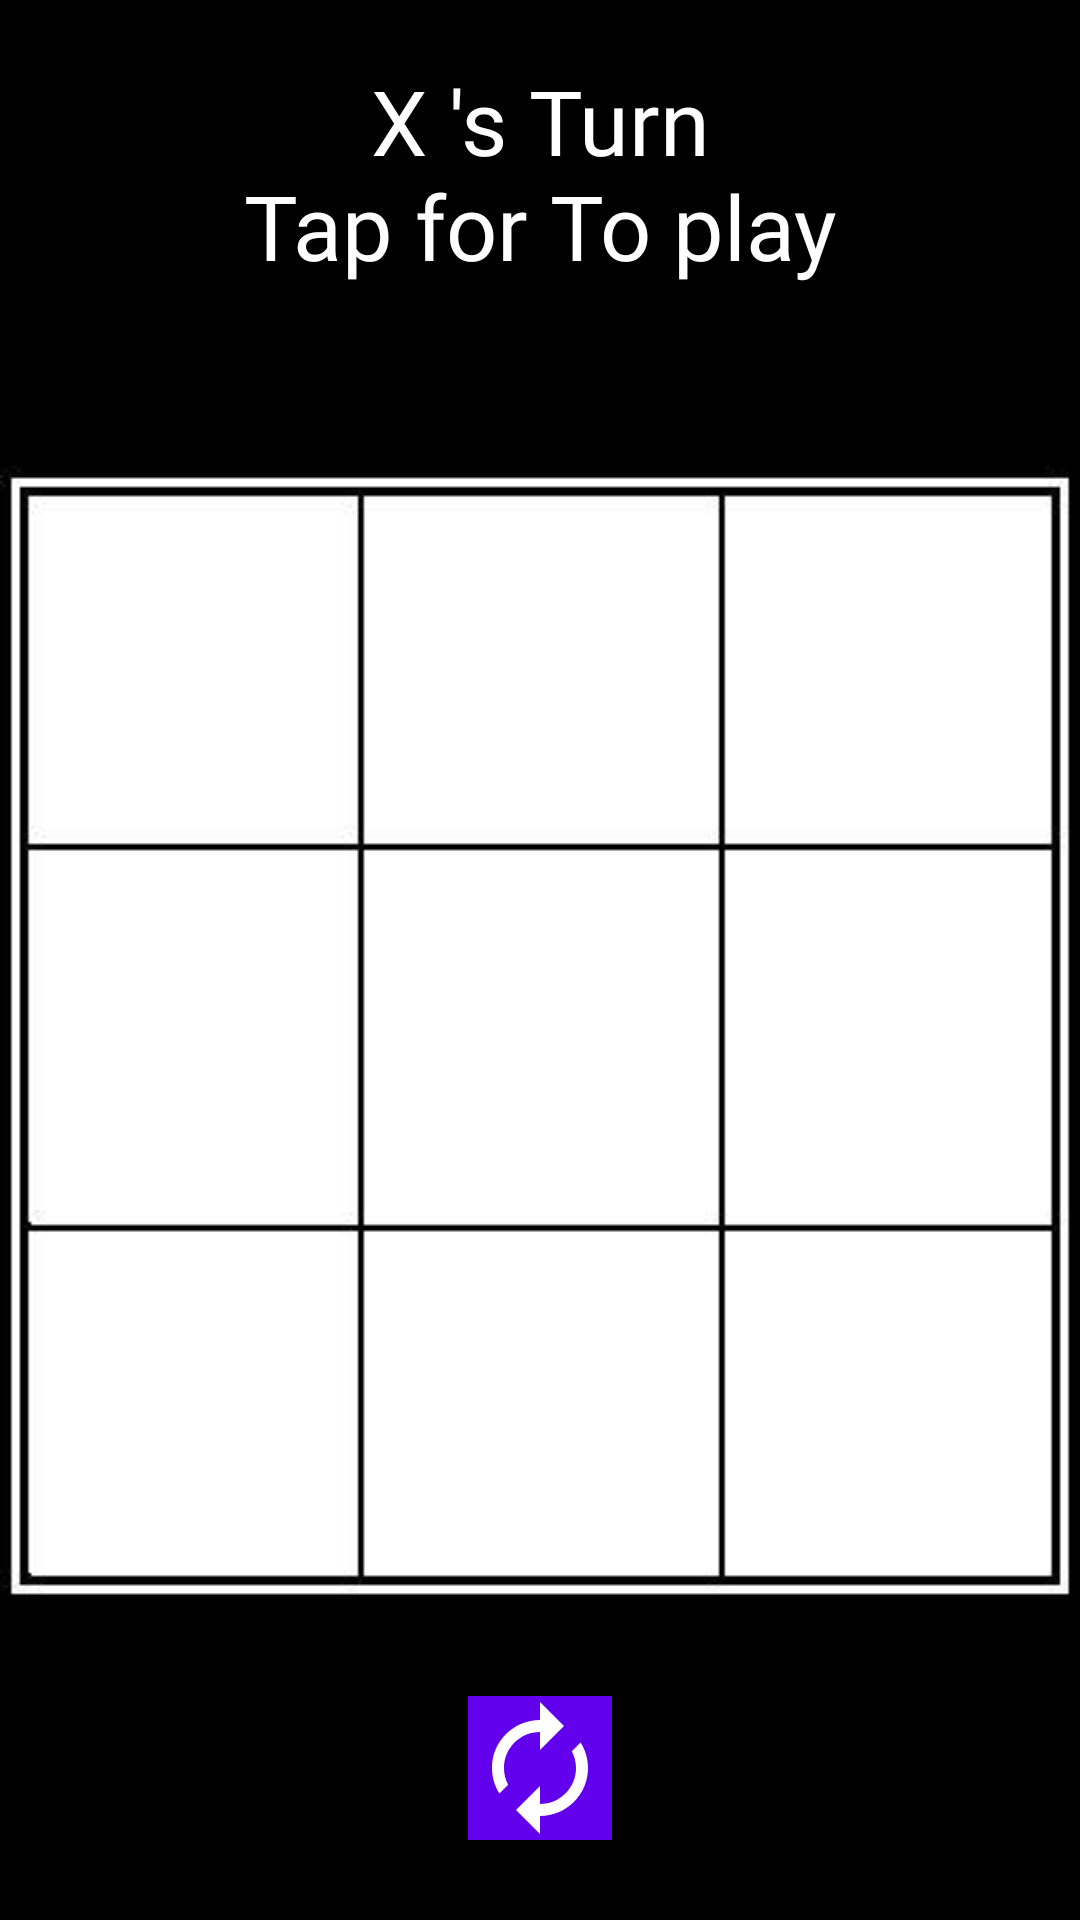

Icons on this 1080×1920 Android screen, each with the point to tap as point (x, y):
reset: point (540, 1768)
